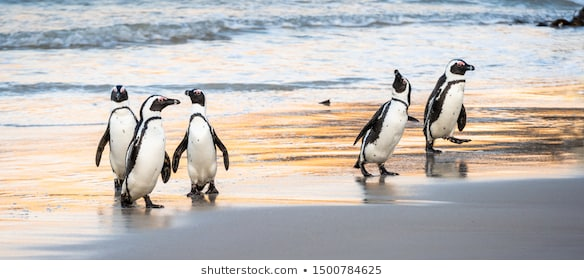penguin: (167, 75, 256, 218), (340, 60, 420, 198), (411, 44, 486, 172), (124, 87, 178, 222), (86, 72, 137, 181)
